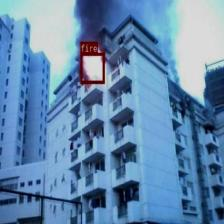fire: (79, 52, 104, 84)
